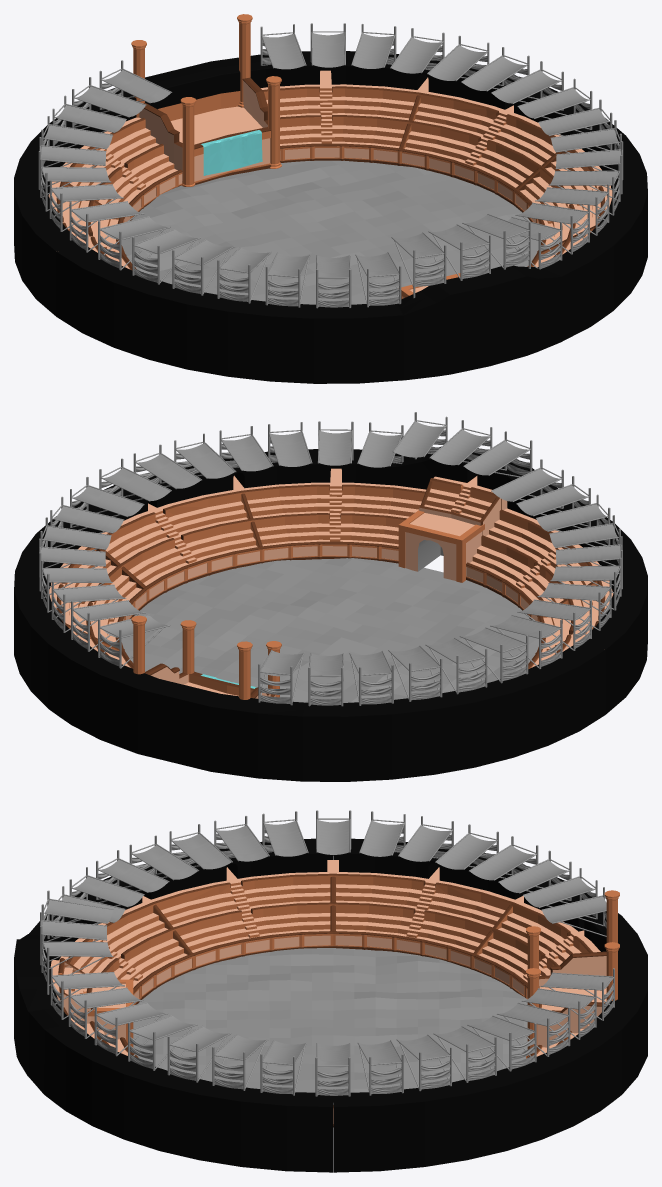
The model's file is ArenaNoSmooth.FBX.
3 renders of one model, top to bottom at view 1: azimuth 30°, elevation 25°; view 2: azimuth 150°, elevation 25°; view 3: azimuth 270°, elevation 25°, orthographic.
Parts seen in each view (by area): view 1: Arena_1, Arena_2, Ground, TribuneOpposite, GodTribune, Column_1, GodCloth, Column_2, Plane267, Plane271, Plane263, Plane259 (+29 smaller); view 2: Arena_1, Arena_2, Ground, TribuneOpposite, Corridor, Column_2, GodTribune, Plane219, Plane223, Plane215, Plane227, Plane211 (+30 smaller); view 3: Arena_1, Arena_2, Ground, TribuneOpposite, GodTribune, Column_2, Plane171, Column_1, Plane167, Plane175, Plane179, Plane163 (+31 smaller).
Part boxes in pixels (x1,y1,x2,y2): Arena_1: (14, 51, 589, 316); Arena_2: (56, 118, 647, 383); Ground: (121, 160, 538, 304); TribuneOpposite: (397, 265, 562, 380); GodTribune: (139, 77, 271, 184); Column_1: (180, 76, 281, 186); GodCloth: (201, 130, 262, 175); Column_2: (131, 14, 252, 117); Plane267: (312, 33, 344, 67); Plane271: (263, 33, 305, 69); Plane263: (352, 33, 393, 68); Plane259: (391, 37, 441, 73); Arena_1: (14, 516, 605, 781); Arena_2: (73, 449, 647, 714); Ground: (121, 558, 538, 702); TribuneOpposite: (379, 446, 558, 586); Corridor: (398, 510, 484, 582); Column_2: (131, 615, 252, 699); GodTribune: (145, 663, 275, 698); Plane219: (319, 431, 351, 465); Plane223: (270, 431, 310, 466); Plane215: (358, 432, 400, 467); Plane227: (222, 435, 272, 471); Plane211: (394, 421, 444, 457); Arena_1: (330, 838, 647, 1172); Arena_2: (28, 838, 335, 1172); Ground: (133, 948, 527, 1104); TribuneOpposite: (14, 934, 127, 1075); GodTribune: (537, 951, 606, 1047); Column_2: (604, 890, 619, 1001); Plane171: (317, 820, 349, 854); Column_1: (526, 926, 540, 1058); Plane167: (360, 821, 403, 856); Plane175: (265, 821, 307, 856); Plane179: (217, 825, 268, 861); Plane163: (399, 826, 450, 861).
Bounding box in the file's own units: 2953 × 607 × 2941.
